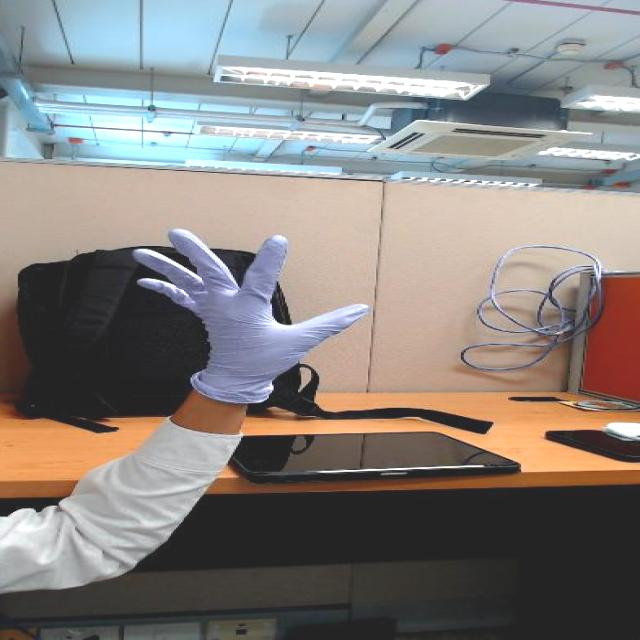glove: (129, 223, 382, 358)
